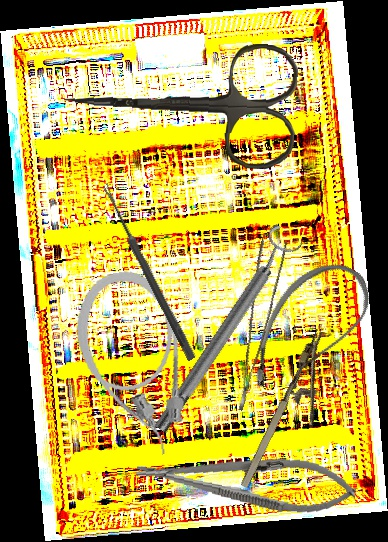Cannula: (67, 264, 198, 466), (236, 245, 383, 415)
Fixation Ring: (142, 222, 307, 440)
Iris Scissors: (60, 34, 300, 172)
Needle Holder: (235, 329, 355, 502), (133, 440, 359, 521)
Surgical Spoon: (99, 182, 198, 362)
Tissue Forceps: (209, 234, 297, 411)
